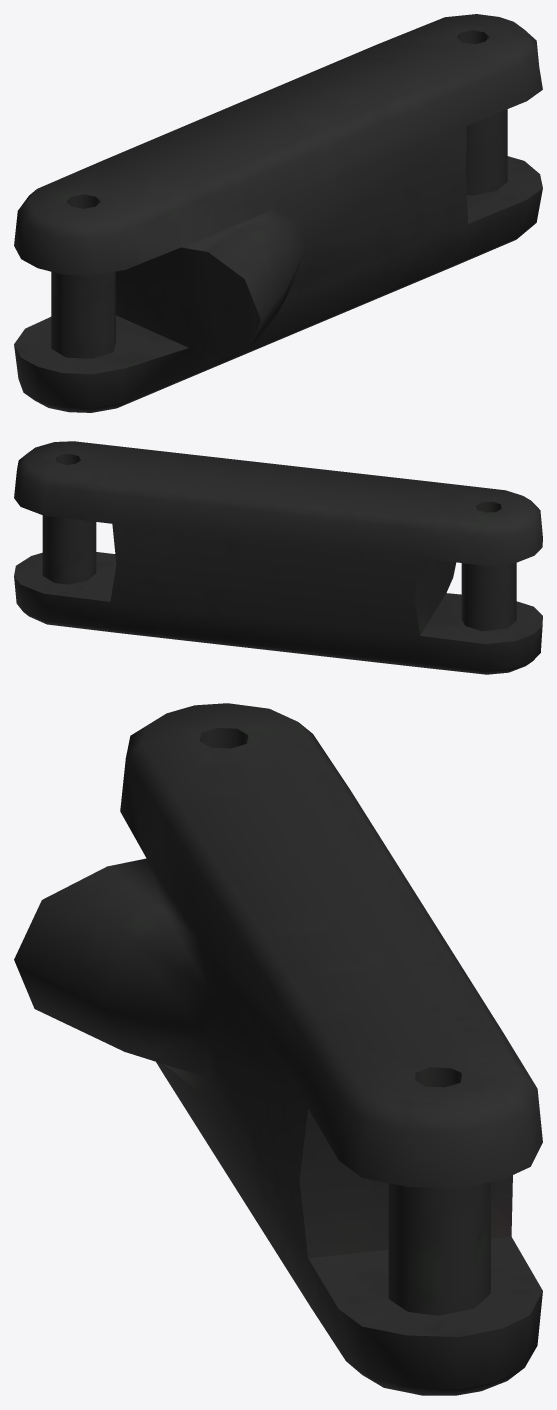
File: gripper_left_4.dae
3 renders of one model, top to bottom at view 1: azimuth 30°, elevation 25°; view 2: azimuth 150°, elevation 25°; view 3: azimuth 270°, elevation 25°, orthographic. The views are drawn at different scales.
Parts seen in each view (by area): view 1: gripper_left_4; view 2: gripper_left_4; view 3: gripper_left_4.
Part boxes in pixels (bbox=[...]): gripper_left_4: bbox=[14, 14, 542, 412]; gripper_left_4: bbox=[14, 441, 542, 674]; gripper_left_4: bbox=[14, 703, 542, 1395].
Size of the model in its own units: 0.0485 by 0.0254 by 0.0151.
